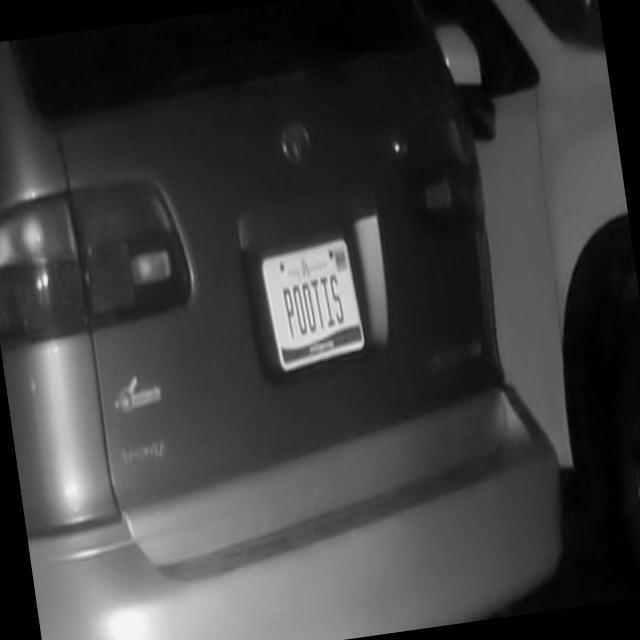LicensePlate: (259, 237, 365, 371)
